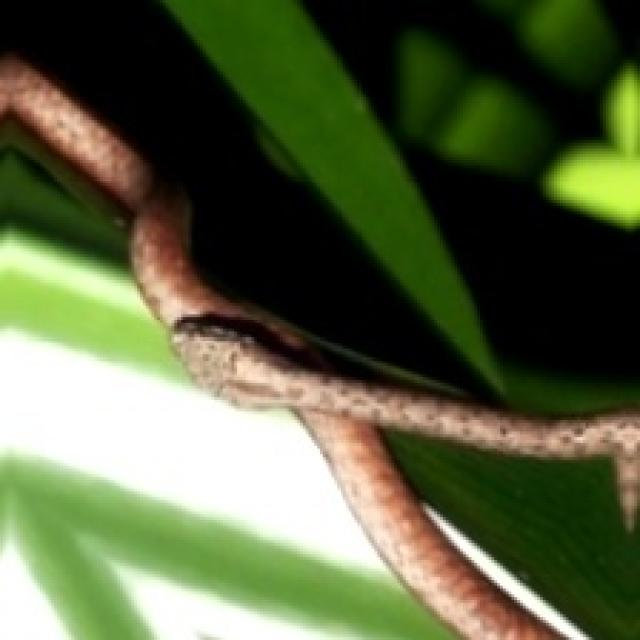philippine whip snake: (0, 54, 637, 637)
